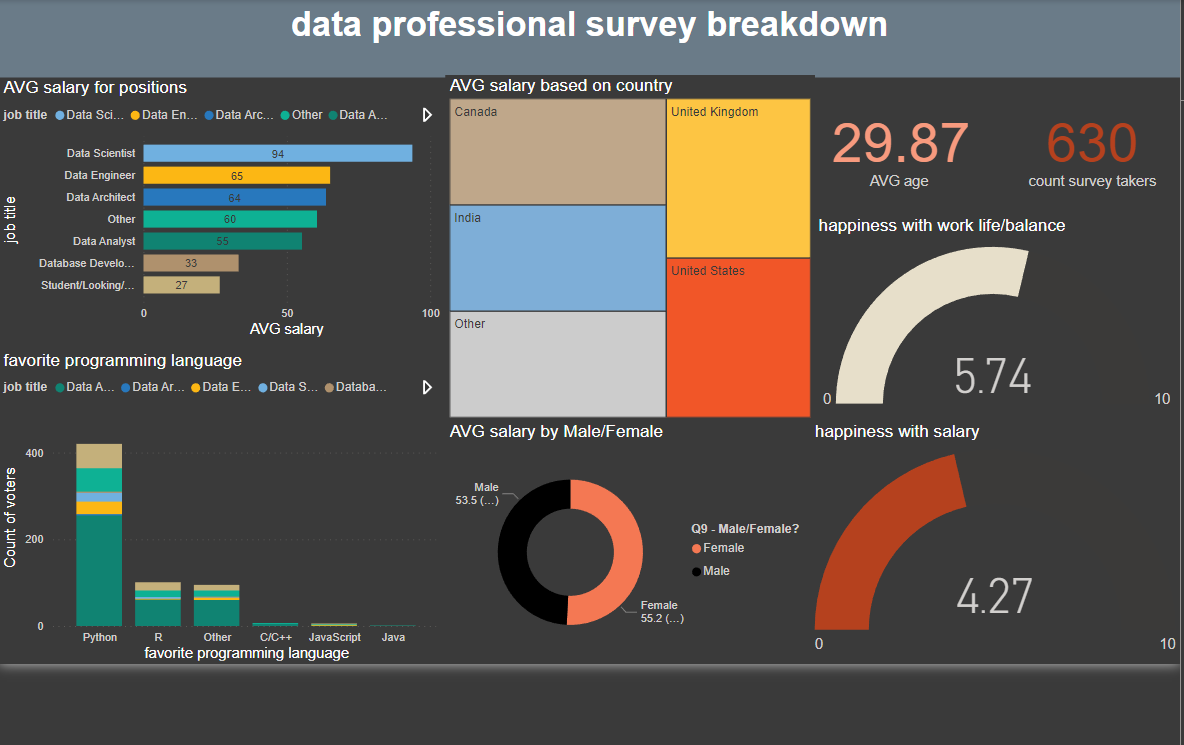

The dashboard page shown, as its layout file describes it:
{"tool":"powerbi","page":{"name":"Page 1","canvas":[1280,720],"ordinal":0},"visuals":[{"type":"textbox","box":[0,0,1280.3,83.7],"z":0},{"type":"card","fields":{"Values":["CountNonNull(Data Professional Survey.Unique ID)"]},"box":[1090.9,83.7,189.4,149.6],"z":1000},{"type":"card","fields":{"Values":["Avg(Data Professional Survey.Q10 - Current Age)"]},"box":[883.7,83.7,189.4,149.6],"z":2000},{"type":"barChart","title":"AVG salary for positions","fields":{"Category":["Data Professional Survey.Q1 - Which Title Best Fits your Current Role?.1"],"Y":["Avg(Data Professional Survey.AVG salary)"],"Series":["Data Professional Survey.Q1 - Which Title Best Fits your Current Role?.1"]},"box":[0,83.7,483,285.4],"z":3000},{"type":"columnChart","title":"favorite programming language","fields":{"Category":["Data Professional Survey.Q5 - Favorite Programming Language.1"],"Y":["CountNonNull(Data Professional Survey.Unique ID)"],"Series":["Data Professional Survey.Q1 - Which Title Best Fits your Current Role?.1"]},"box":[0,378.7,483,341.7],"z":4000},{"type":"treemap","title":"AVG salary based on country","fields":{"Group":["Data Professional Survey.Q11 - Which Country do you live in?.1"],"Values":["Count(Data Professional Survey.Q11 - Which Country do you live in?.1)"]},"box":[483,81,400.7,376],"z":4001},{"type":"gauge","title":"happiness with work life/balance ","fields":{"Y":["Avg(Data Professional Survey.Q6 - How Happy are you in your Current Position with the following? (Work/Life Balance))"],"MinValue":["Min(Data Professional Survey.Q6 - How Happy are you in your Current Position with the following? (Work/Life Balance))"],"MaxValue":["Max(Data Professional Survey.Q6 - How Happy are you in your Current Position with the following? (Work/Life Balance))1"]},"box":[883.7,233.3,396.6,223.7],"z":4002},{"type":"gauge","title":"happiness with salary ","fields":{"Y":["Avg(Data Professional Survey.Q6 - How Happy are you in your Current Position with the following? (Salary))"],"MinValue":["Min(Data Professional Survey.Q6 - How Happy are you in your Current Position with the following? (Salary))1"],"MaxValue":["Max(Data Professional Survey.Q6 - How Happy are you in your Current Position with the following? (Salary))"]},"box":[879.6,456.9,400.7,263.5],"z":4003},{"type":"donutChart","title":"AVG salary by  Male/Female","fields":{"Category":["Data Professional Survey.Q9 - Male/Female?"],"Y":["Avg(Data Professional Survey.AVG salary)"]},"box":[483,456.9,396.6,263.5],"z":4004}]}

Visuals, with their boxes in screenshot pixels (x1, y1, x2, y2):
textbox: locate(6, 12, 1174, 89)
card - CountNonNull(Data Professional Survey.Unique ID): locate(1001, 89, 1174, 225)
card - Avg(Data Professional Survey.Q10 - Current Age): locate(812, 89, 985, 225)
"AVG salary for positions" barChart: locate(6, 89, 447, 349)
"favorite programming language" columnChart: locate(6, 358, 447, 669)
"AVG salary based on country" treemap: locate(447, 86, 812, 429)
"happiness with work life/balance " gauge: locate(812, 225, 1174, 429)
"happiness with salary " gauge: locate(809, 429, 1174, 669)
"AVG salary by  Male/Female" donutChart: locate(447, 429, 809, 669)
